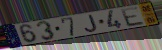3: (36, 20, 56, 41)
4: (106, 9, 124, 30)
6: (19, 23, 39, 44)
7: (60, 16, 75, 37)
E: (120, 6, 147, 28)
J: (84, 13, 99, 33)
